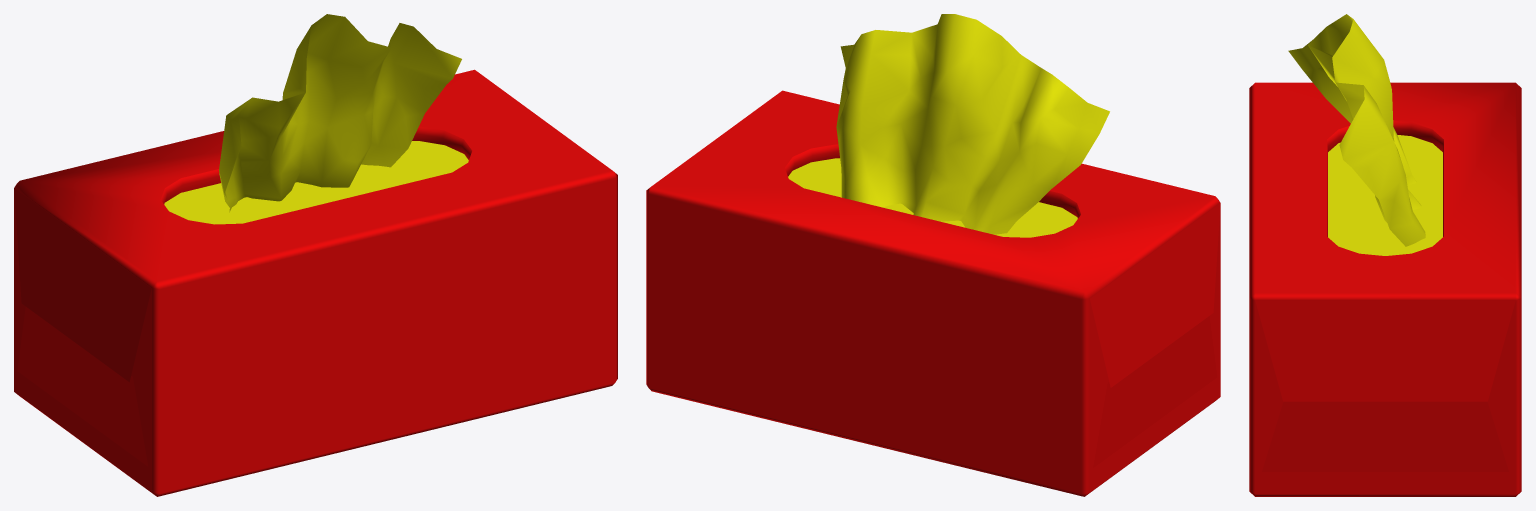
Rendered from tissue_boxes_grp.fbx.
3 views of the same model, side by side, from view 1: azimuth 30°, elevation 25°; view 2: azimuth 150°, elevation 25°; view 3: azimuth 270°, elevation 25° (orthographic). The views are drawn at different scales.
Visible parts, largest first — view 1: tissue_box_1, tissue_box_tissue_1; view 2: tissue_box_1, tissue_box_tissue_1; view 3: tissue_box_1, tissue_box_tissue_1.
Boxes of the visible parts, x1=… form: tissue_box_1: x1=14, y1=69, x2=617, y2=496; tissue_box_tissue_1: x1=219, y1=14, x2=461, y2=212; tissue_box_1: x1=646, y1=90, x2=1220, y2=496; tissue_box_tissue_1: x1=836, y1=14, x2=1109, y2=234; tissue_box_1: x1=1249, y1=82, x2=1521, y2=496; tissue_box_tissue_1: x1=1288, y1=14, x2=1425, y2=246.
Size of the model in its own units: 18.83 by 14.63 by 9.76.
